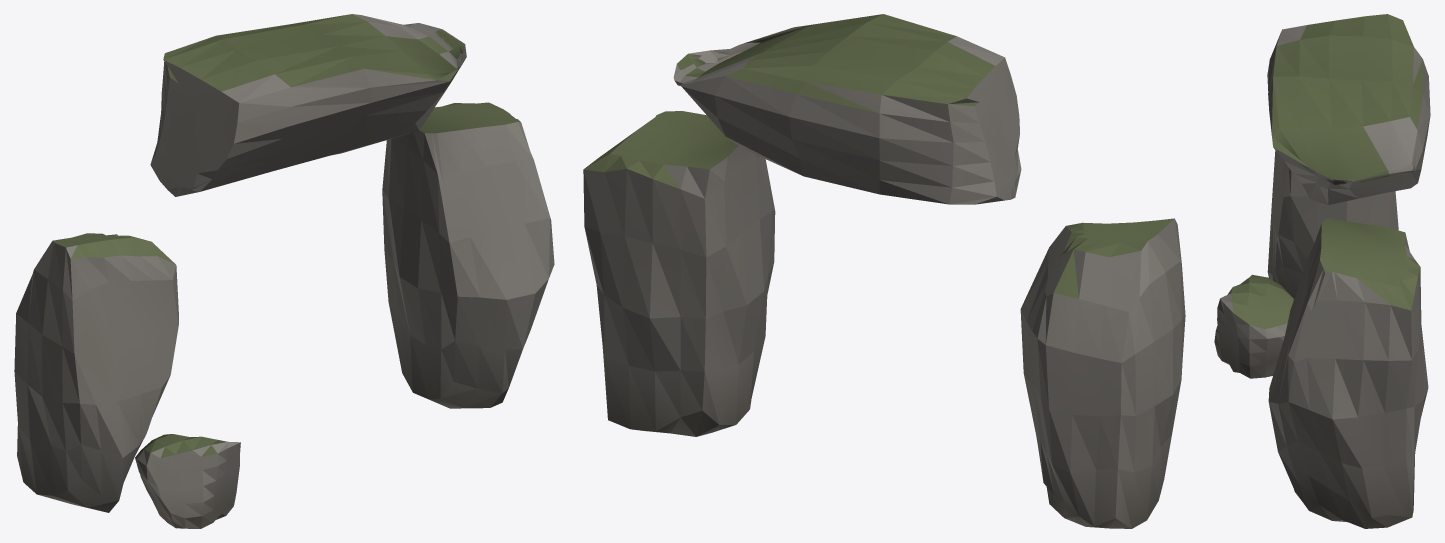
File: cave_boulder_arch.glb
The picture shows the model from 3 angles, left to right: view 1: azimuth 30°, elevation 25°; view 2: azimuth 150°, elevation 25°; view 3: azimuth 270°, elevation 25°; orthographic projection. The views are drawn at different scales.
Visible parts, largest first — view 1: cave_boulder_1_LOD0, cave_boulder_2_LOD0, cave_boulder_0_LOD0, cave_boulder_3_LOD0; view 2: cave_boulder_1_LOD0, cave_boulder_2_LOD0, cave_boulder_0_LOD0; view 3: cave_boulder_1_LOD0, cave_boulder_2_LOD0, cave_boulder_0_LOD0, cave_boulder_3_LOD0.
Part boxes in pixels (<box>): cave_boulder_1_LOD0: <box>382,102,554,408</box>; cave_boulder_2_LOD0: <box>150,14,466,196</box>; cave_boulder_0_LOD0: <box>14,233,178,512</box>; cave_boulder_3_LOD0: <box>135,434,240,528</box>; cave_boulder_1_LOD0: <box>583,111,775,436</box>; cave_boulder_2_LOD0: <box>673,14,1021,204</box>; cave_boulder_0_LOD0: <box>1020,218,1185,528</box>; cave_boulder_1_LOD0: <box>1268,218,1428,528</box>; cave_boulder_2_LOD0: <box>1267,14,1430,204</box>; cave_boulder_0_LOD0: <box>1267,150,1398,298</box>; cave_boulder_3_LOD0: <box>1214,274,1293,378</box>.
Size of what is drawn, in the model's own units: 4.18 by 3.1 by 1.62.
